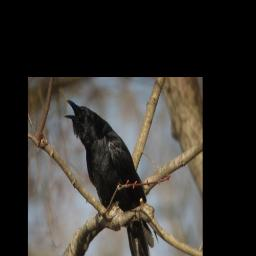Crow: (63, 96, 155, 256)
